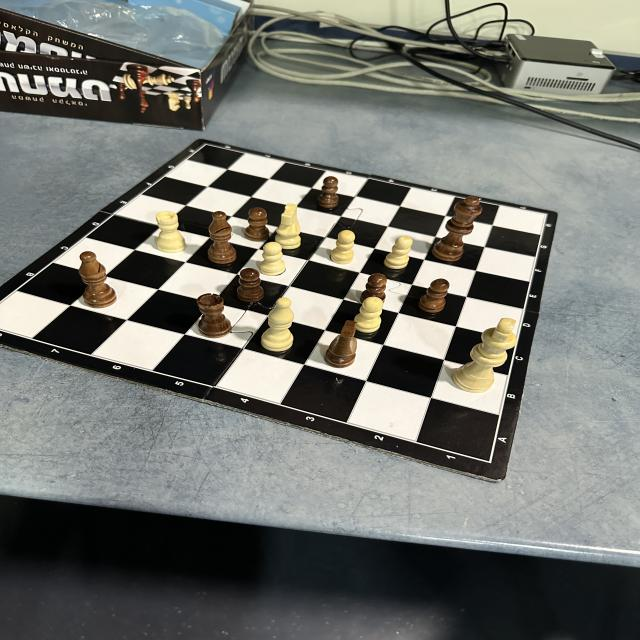Black-Bishop: (78, 251, 117, 309), (208, 210, 237, 264)
Black-Knight: (325, 320, 357, 368)
Black-Pawn: (418, 278, 449, 313), (237, 269, 264, 302), (360, 274, 388, 305), (245, 207, 270, 241), (317, 176, 339, 208)
Black-Queen: (432, 196, 482, 262)
Black-Rook: (197, 293, 232, 338)
White-Bishop: (261, 297, 294, 352)
White-King: (454, 318, 518, 392)
White-Knight: (274, 203, 300, 249)
White-Pawn: (354, 297, 384, 333), (384, 236, 414, 270), (259, 242, 285, 276), (330, 230, 355, 264)
White-Rook: (156, 211, 186, 253)
